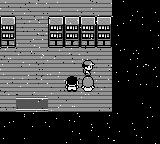main: (82, 60, 95, 76)
no-caminable: (1, 0, 160, 143), (49, 17, 110, 48), (1, 17, 15, 48)
npc: (64, 76, 79, 92), (81, 76, 95, 92)
puerta: (11, 94, 52, 112)
